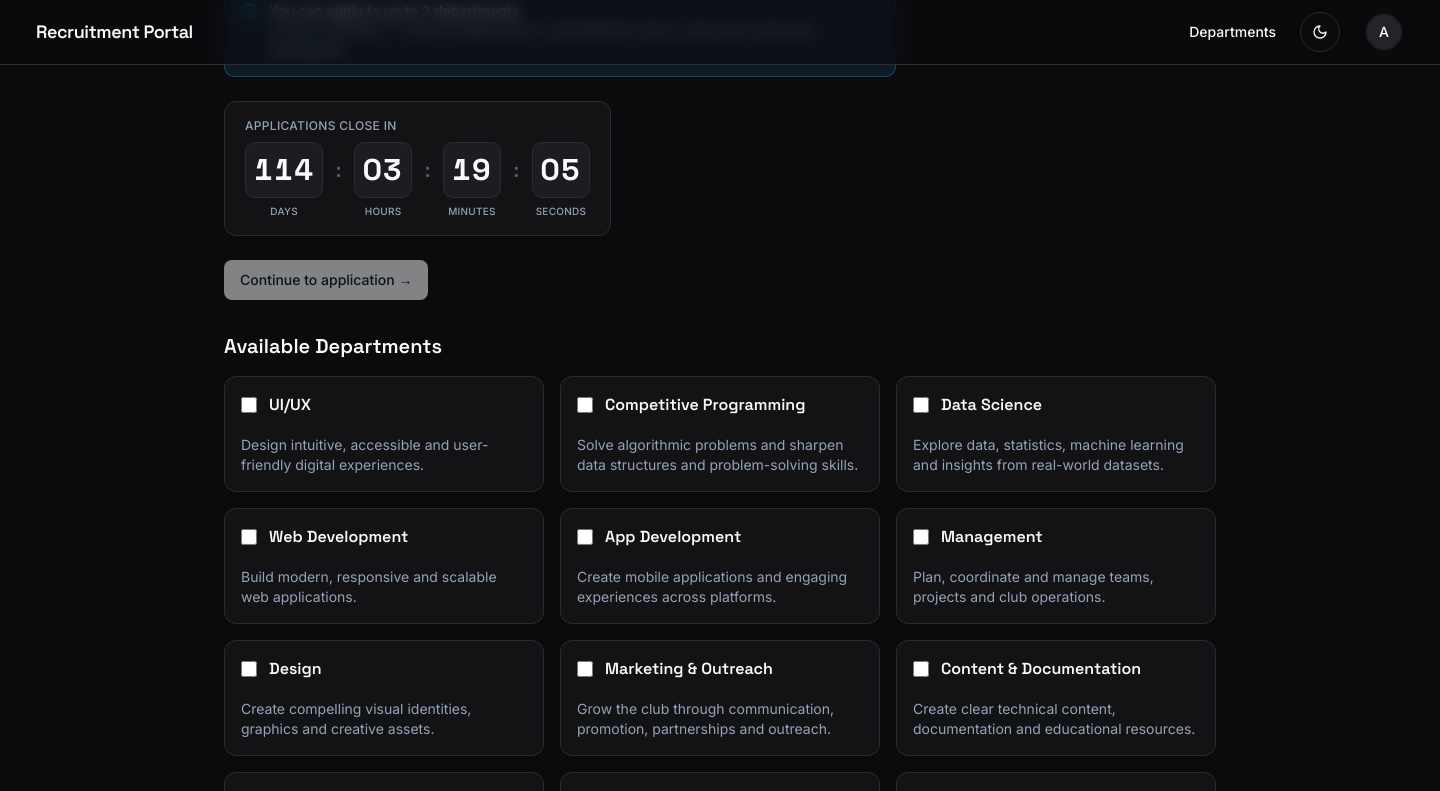
Test: Continue to application — signed in › re-disables Continue when the last selection is removed
(page scrolled)
Click the checkbox labelled "UI/UX". click: x=249, y=405
box: [241,397,257,413]
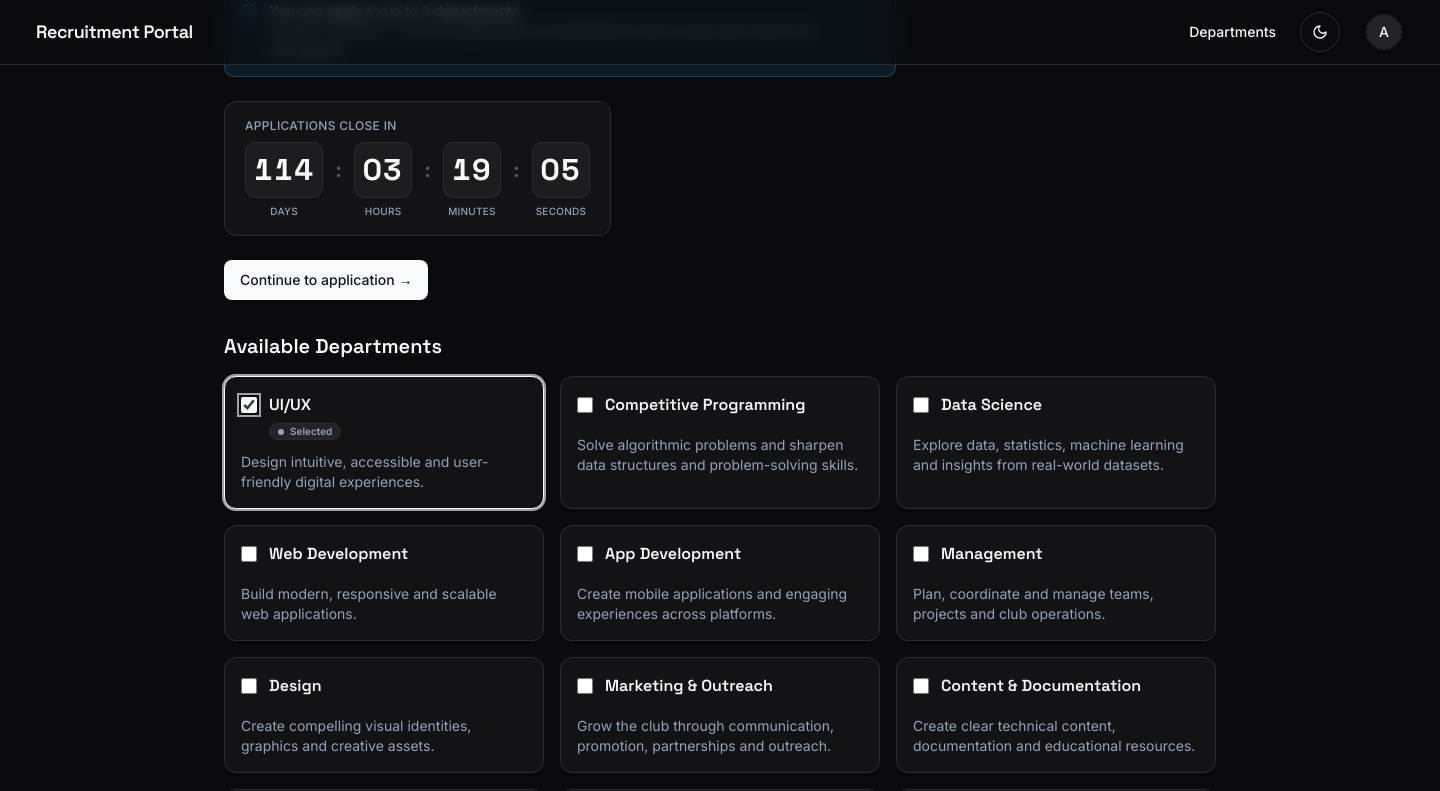
Check: the button "Continue to application →" is enabled, box [224,260,428,300]
Click the checkbox labelled "UI/UX". click: x=249, y=405
box: [241,397,257,413]
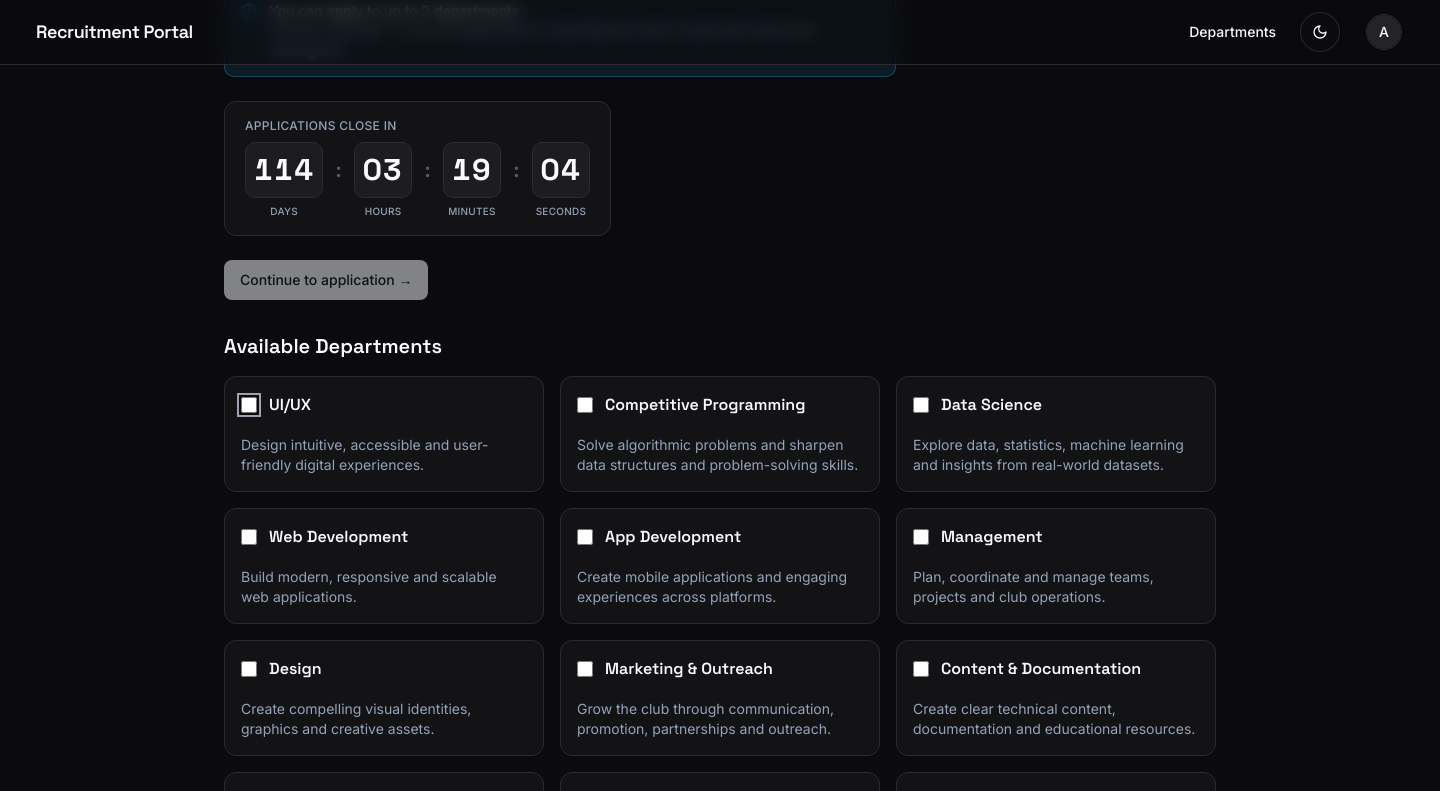
Check: the button "Continue to application →" is disabled, box [224,260,428,300]
